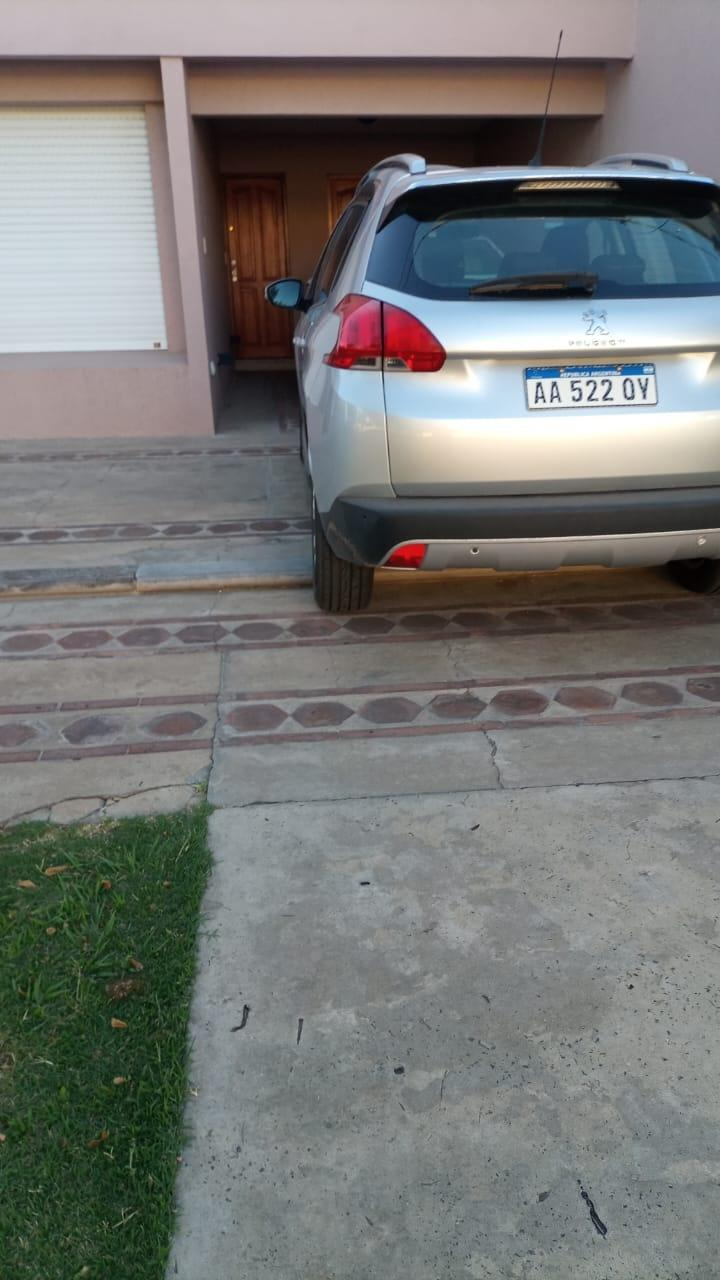matricula: (513, 357, 665, 412)
